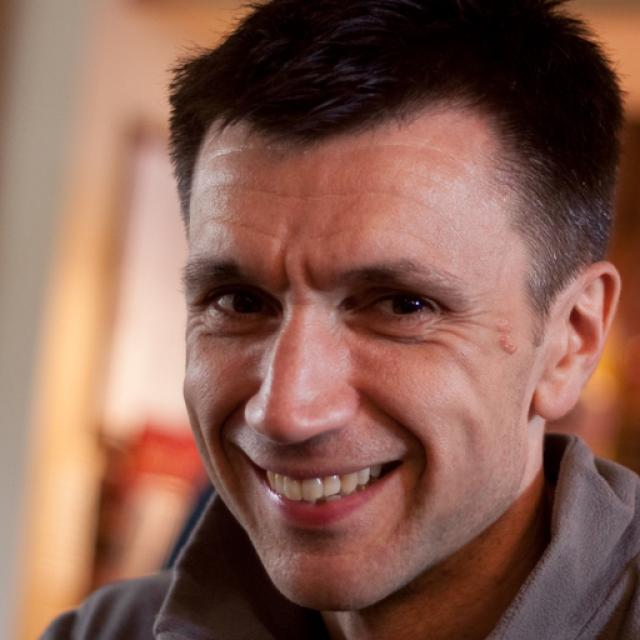Acne: (496, 321, 520, 361)
Wrinkle: (206, 180, 442, 219), (206, 213, 283, 243), (313, 223, 418, 242)
